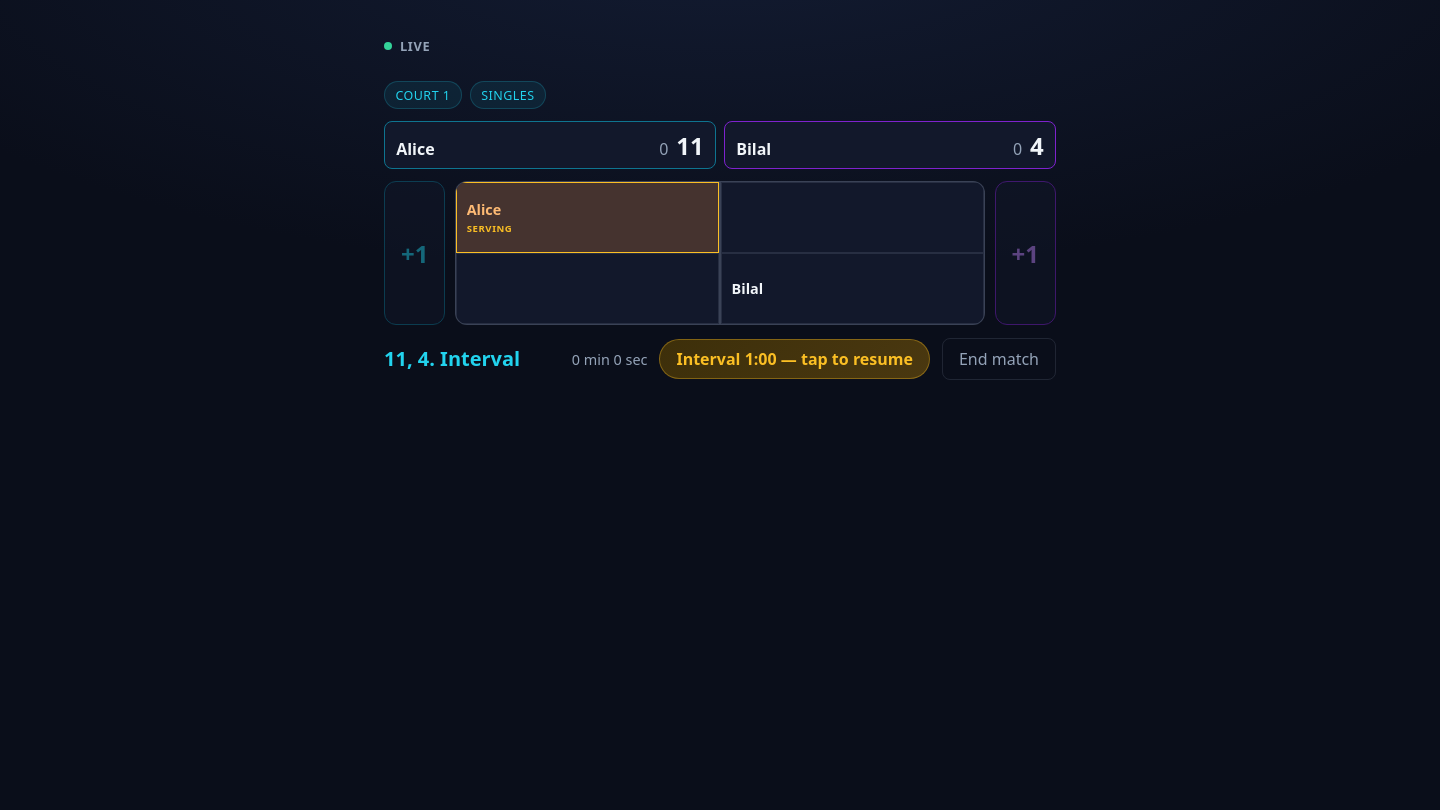
Test: UmpireScreen › scoring › backs out of the resume dialog without resuming
Click the button "Interval 1:00 — tap to resume".
click(795, 359)  # box left=659, top=339, right=930, bottom=379
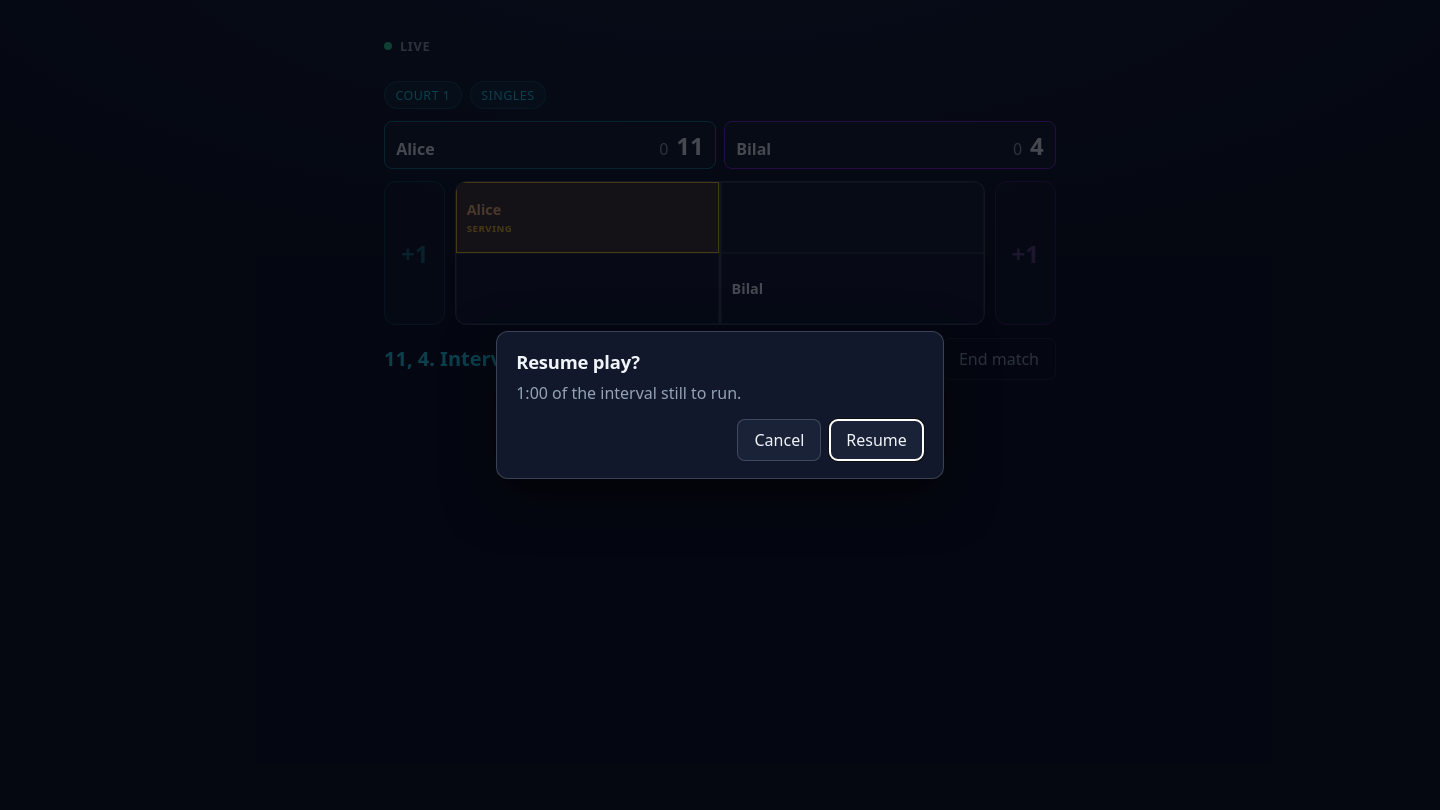
Click the button "Cancel".
click(779, 440)  # box left=738, top=419, right=821, bottom=461
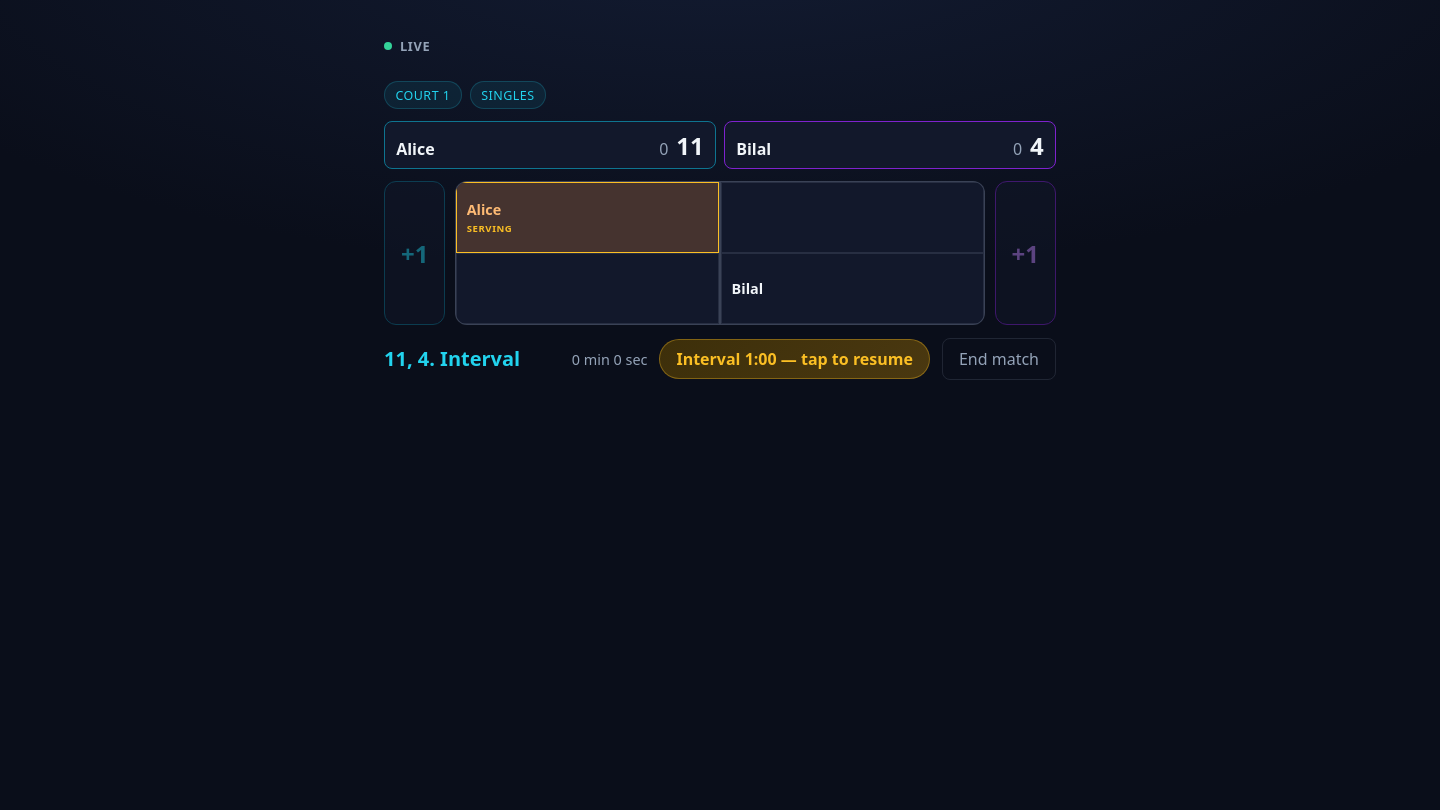
expect the dialog is gone: met
